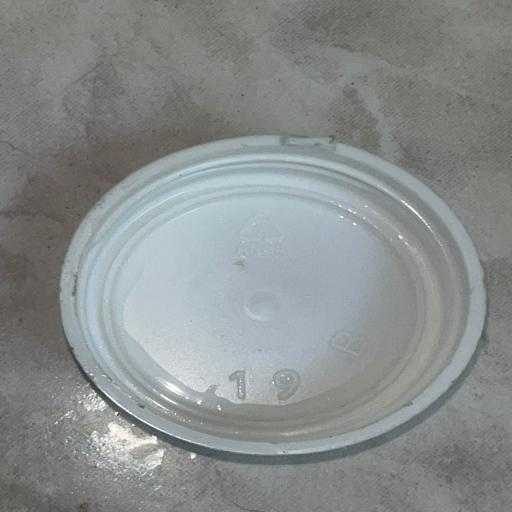HDPE: (32, 120, 497, 512)
